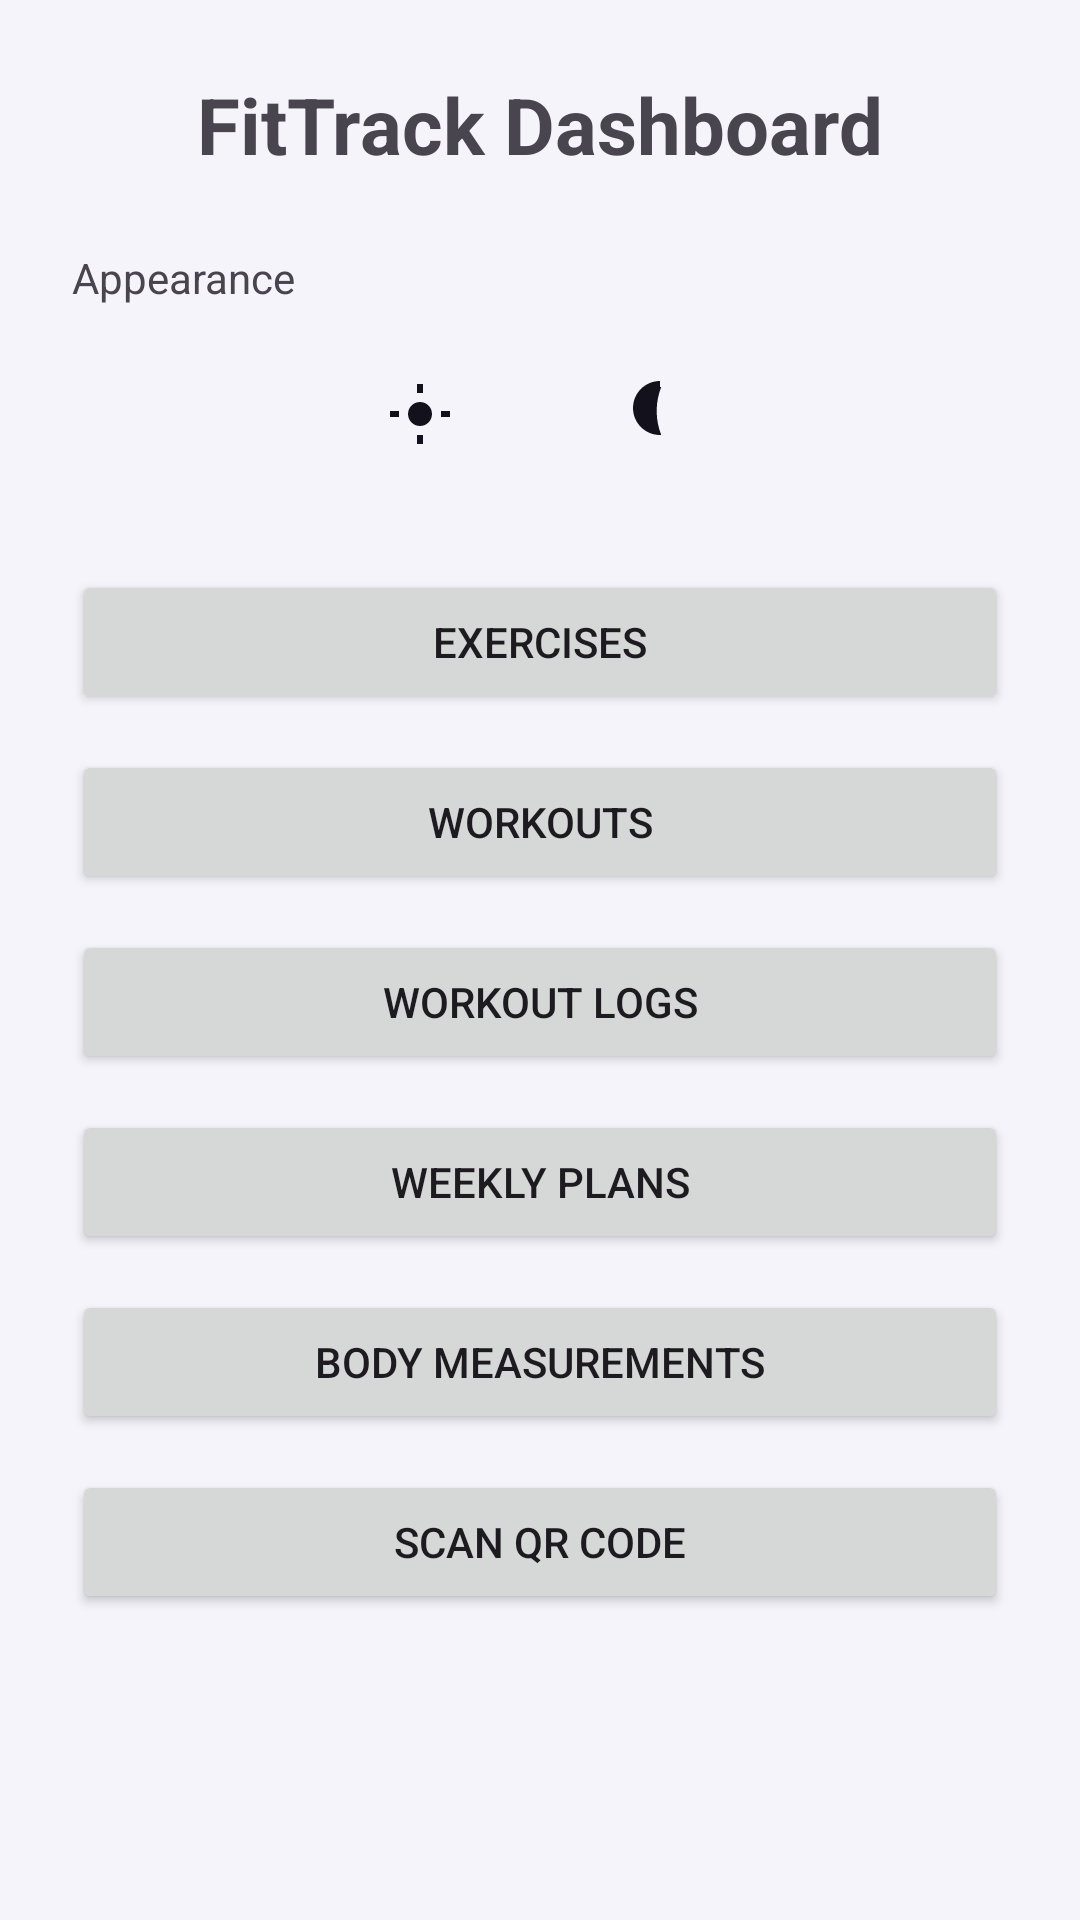

Icon click points for this 1080*1920 phone screenshot, format (x,y):
Dark: (647,408)
Light: (420,414)
